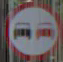No overtake: (11, 5, 54, 49)
